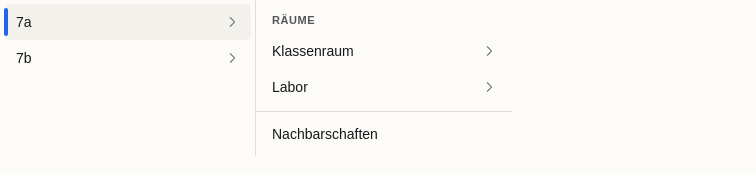
Scenario: ColumnBrowser › says so when a column lists nothing
Click the option "Labor".
click(290, 86)  # box [272,78,496,94]
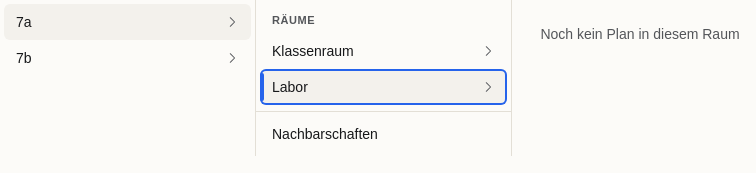
Check: the text "Noch kein Plan in diesem Raum" is shown, box [540,26,740,42]
